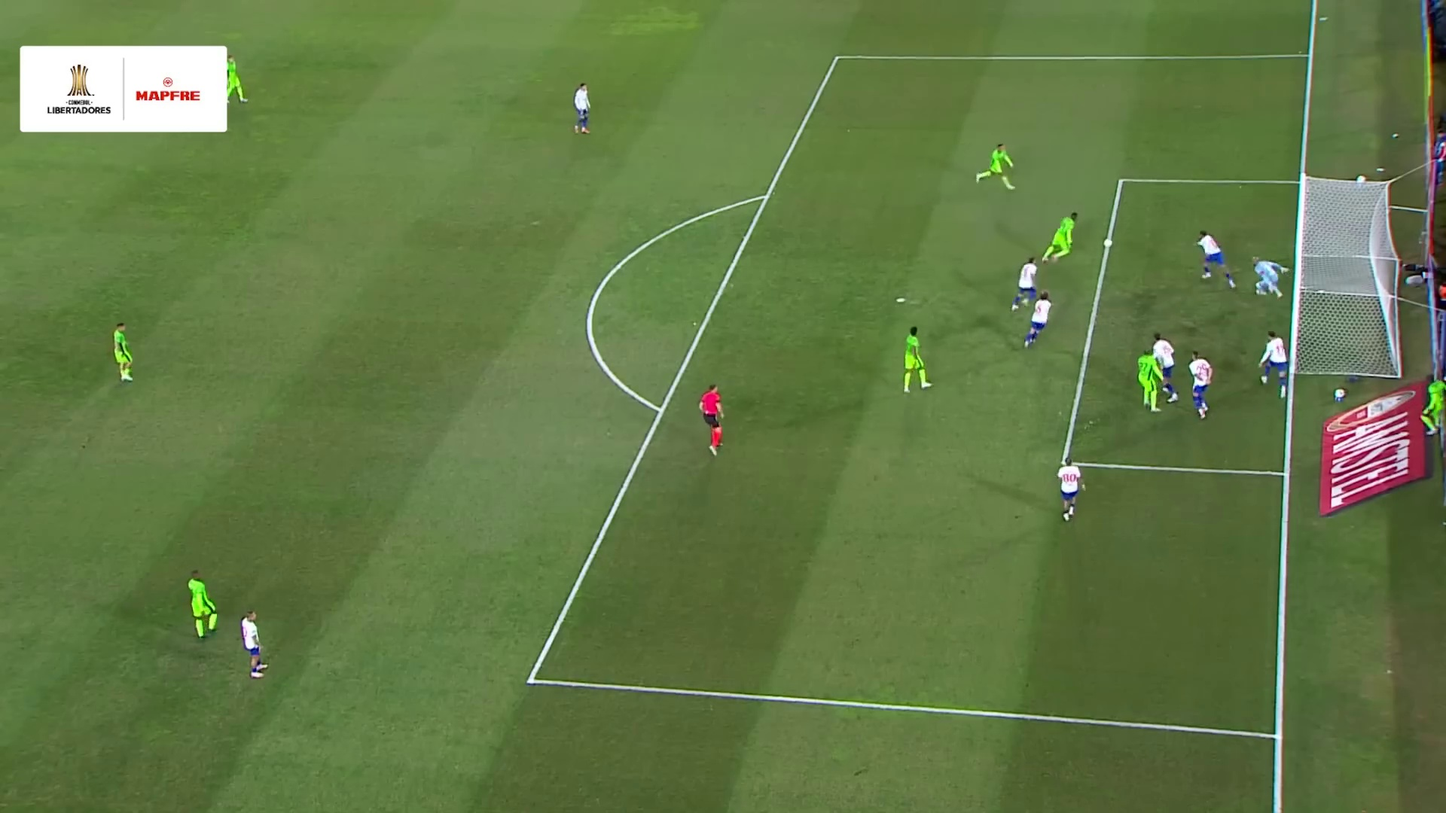ball: (1103, 239, 1113, 248)
player: (183, 569, 221, 641), (1194, 230, 1238, 289), (237, 609, 273, 681), (898, 324, 934, 395), (1052, 457, 1088, 524), (973, 142, 1019, 192), (1256, 330, 1292, 392), (1040, 210, 1082, 263), (1151, 331, 1181, 405), (1186, 351, 1216, 421), (1021, 291, 1056, 350), (108, 321, 139, 384), (1134, 348, 1163, 412), (1009, 256, 1040, 312), (1249, 257, 1289, 299), (222, 53, 249, 105), (570, 81, 594, 137)
referee: (696, 383, 728, 458)
